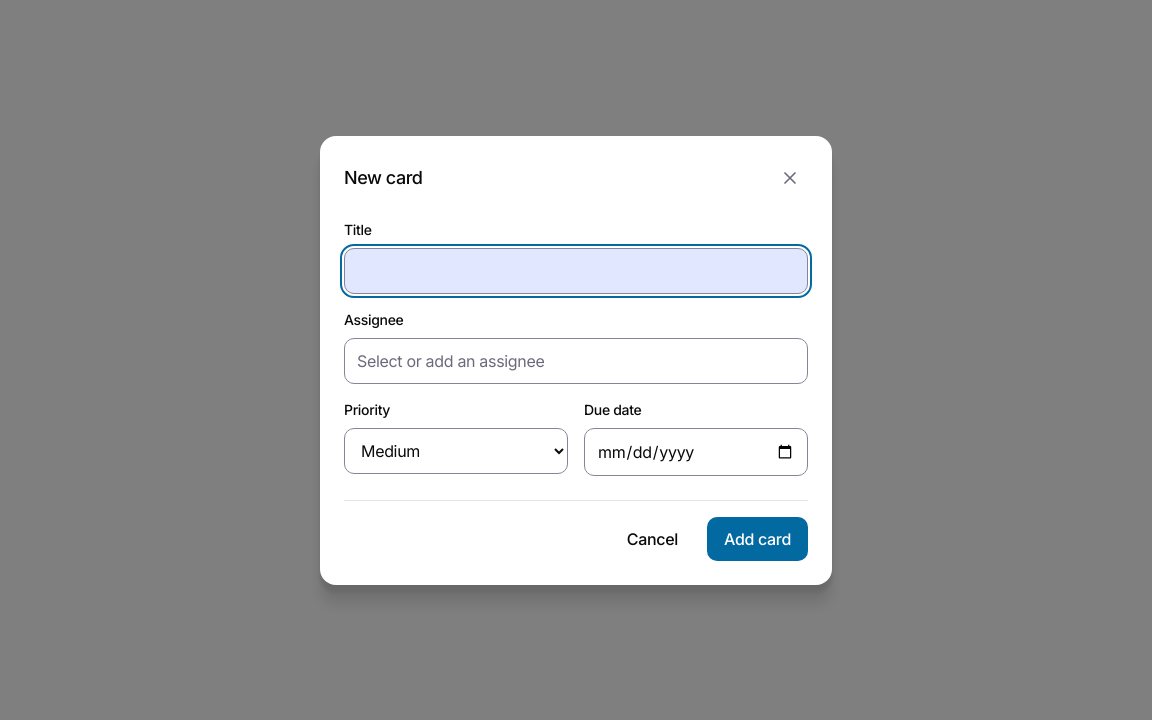
Test: CardModal › requires an assignee
In the field labelled "Title": (576, 270) [344,248,808,294], type "x"
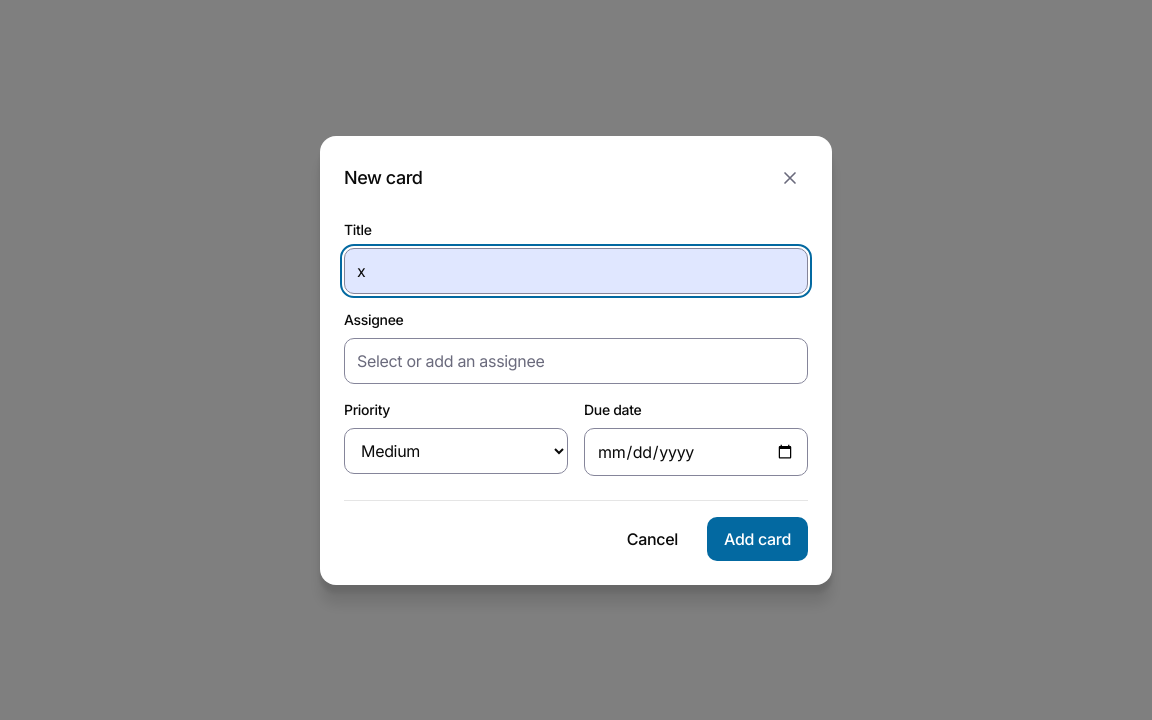
In the date field labelled "Due date": (696, 452) [584,428,808,476], type "2099-05-05"
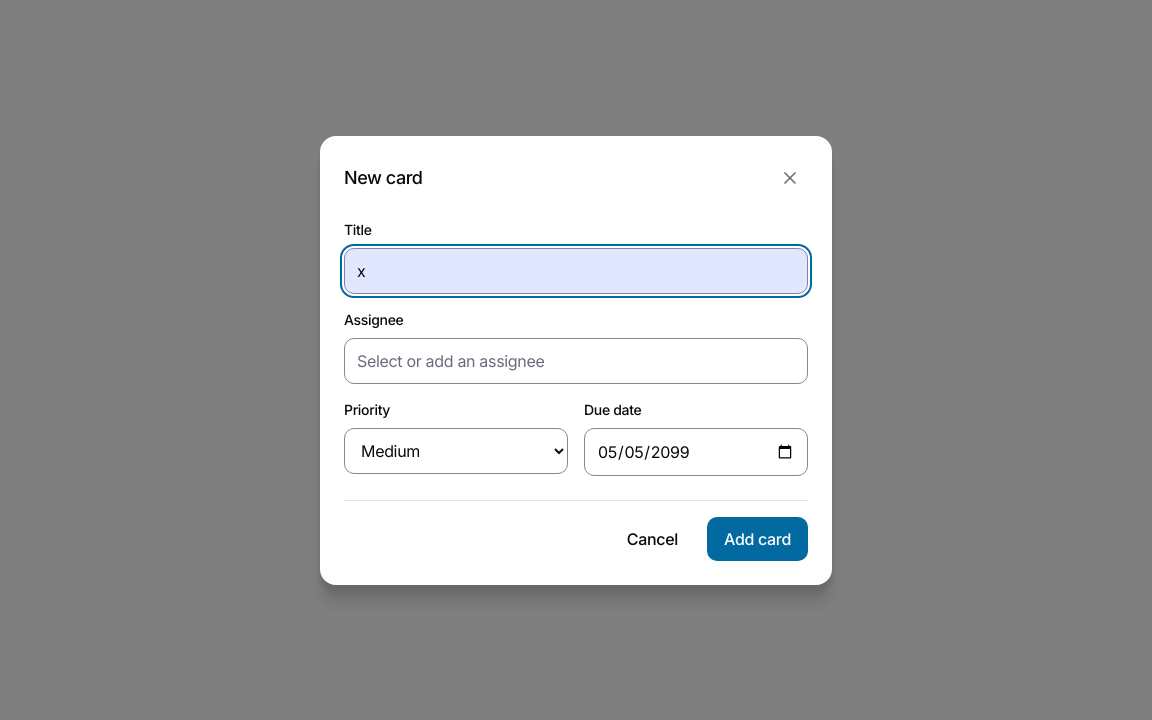
Click the button "Add card": (758, 538) [707,516,808,560]
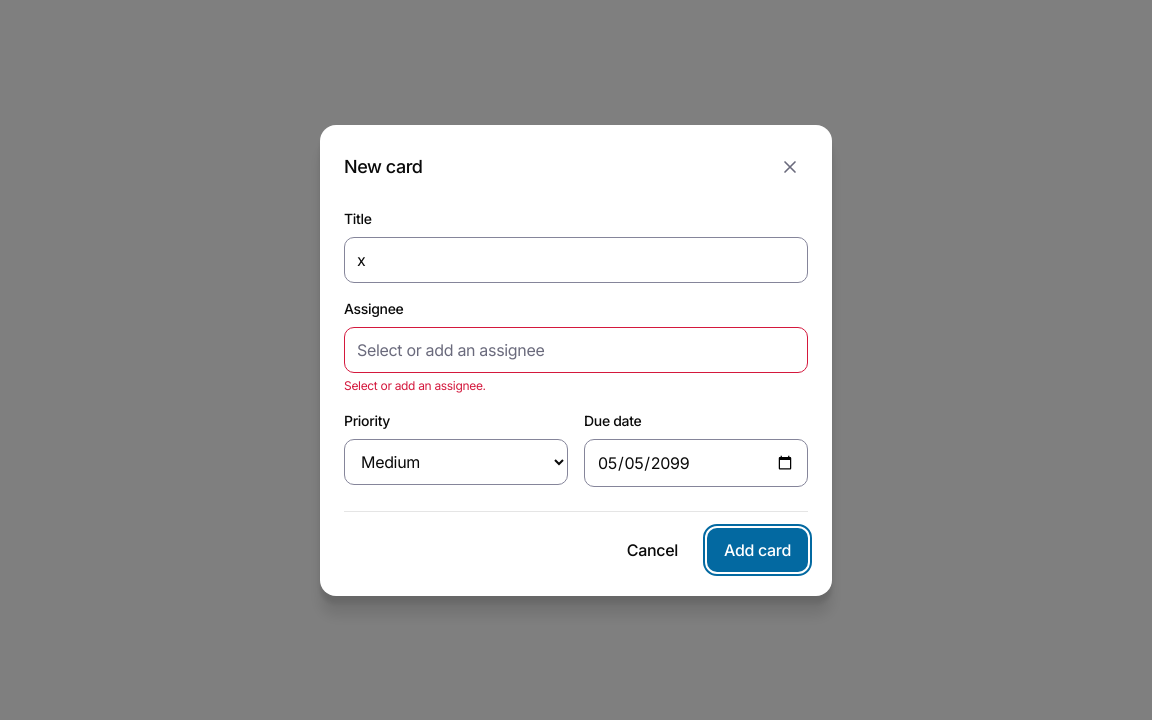
Result: the message reads "Select or add an assignee." at [344,378,486,392]
